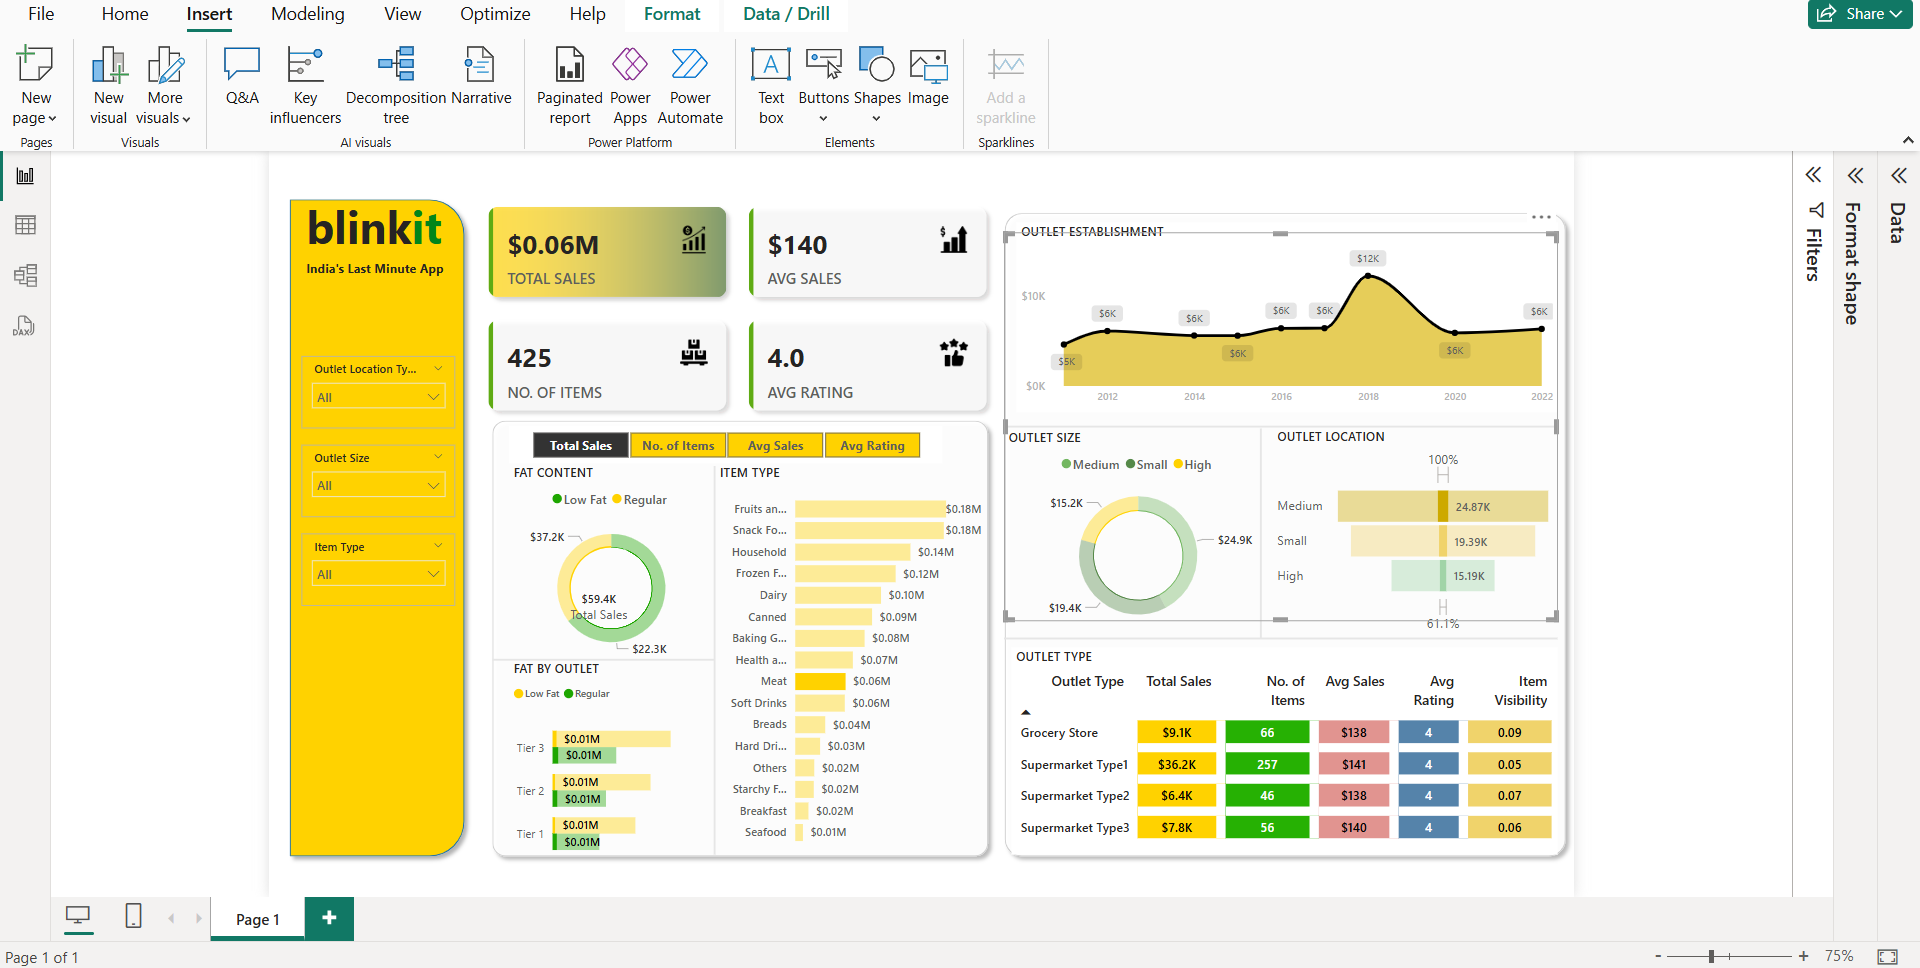

What the dashboard file says about the page in this screenshot:
{"tool":"powerbi","page":{"name":"Page 1","canvas":[1400,800],"ordinal":0},"visuals":[{"type":"shape","box":[13.4,42.9,205.1,722.5],"z":0},{"type":"textbox","box":[34.9,42.9,195.7,84.5],"z":1000},{"type":"textbox","box":[34.9,111.3,174.3,33.5],"z":2000},{"type":"cardVisual","fields":{"Data":["BlinkIT Grocery Data.Total Sales","BlinkIT Grocery Data.Avg Sales","BlinkIT Grocery Data.No. of Items","BlinkIT Grocery Data.Avg Rating"]},"box":[218.5,42.9,569.7,252],"z":3000},{"type":"shape","box":[230.6,280.2,549.6,485.3],"z":4000},{"type":"donutChart","title":" FAT CONTENT","fields":{"Category":["BlinkIT Grocery Data.Item Fat Content"],"Y":["BlinkIT Grocery Data.Total Sales"]},"box":[257.4,335.1,219.8,220],"z":4001},{"type":"slicer","fields":{"Values":["Metrics.Metrics"]},"box":[257.4,294.9,465.1,40.2],"z":4002},{"type":"cardVisual","fields":{"Data":["BlinkIT Grocery Data.Total Sales"]},"box":[296.2,446.4,115.3,85.8],"z":4003},{"type":"clusteredBarChart","title":"FAT BY OUTLET","fields":{"Y":["BlinkIT Grocery Data.Total Sales"],"Category":["BlinkIT Grocery Data.Outlet Location Type"],"Series":["BlinkIT Grocery Data.Item Fat Content"]},"box":[257.4,545.6,219.8,229.2],"z":4004},{"type":"shape","box":[239.9,411.5,237.3,268.1],"z":4005},{"type":"shape","box":[376.7,337.8,202.4,416.9],"z":4006},{"type":"barChart","title":"ITEM TYPE","fields":{"Category":["BlinkIT Grocery Data.Item Type"],"Y":["BlinkIT Grocery Data.Total Sales"]},"box":[478.6,335.1,290.9,419.6],"z":4007},{"type":"shape","box":[780.2,42.9,619.3,722.5],"z":4008},{"type":"lineChart","fields":{"Category":["BlinkIT Grocery Data.Outlet Establishment Year"],"Y":["BlinkIT Grocery Data.Total Sales"]},"box":[800.3,57.6,577.8,277.5],"z":4009}]}

Visuals, with their boxes on the page's 1400x800 design canvas (x1, y1, x2, y2). These are canvas units, not pixel positions in the 1920x968 screenshot, which may show the page scaled, cropped or inside an application window:
shape: region(13, 43, 218, 765)
textbox: region(35, 43, 231, 127)
textbox: region(35, 111, 209, 145)
cardVisual - BlinkIT Grocery Data.Total Sales x BlinkIT Grocery Data.Avg Sales: region(218, 43, 788, 295)
shape: region(231, 280, 780, 766)
" FAT CONTENT" donutChart: region(257, 335, 477, 555)
slicer - Metrics.Metrics: region(257, 295, 722, 335)
cardVisual - BlinkIT Grocery Data.Total Sales: region(296, 446, 412, 532)
"FAT BY OUTLET" clusteredBarChart: region(257, 546, 477, 775)
shape: region(240, 412, 477, 680)
shape: region(377, 338, 579, 755)
"ITEM TYPE" barChart: region(479, 335, 770, 755)
shape: region(780, 43, 1400, 765)
lineChart - BlinkIT Grocery Data.Outlet Establishment Year x BlinkIT Grocery Data.Total Sales: region(800, 58, 1378, 335)
